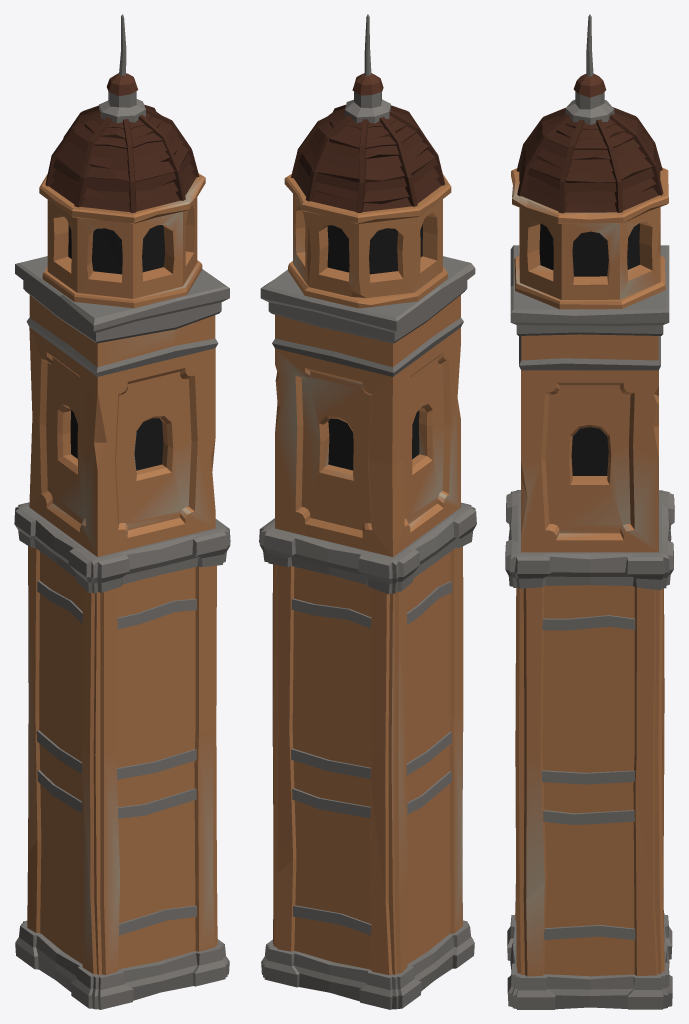
Rendered from SM_Bld_Cuba_Hall_Tower_01.glb.
3 views of the same model, side by side, from view 1: azimuth 30°, elevation 25°; view 2: azimuth 150°, elevation 25°; view 3: azimuth 270°, elevation 25° (orthographic).
Visible parts, largest first — view 1: SM_Bld_Cuba_Hall_Tower_01; view 2: SM_Bld_Cuba_Hall_Tower_01; view 3: SM_Bld_Cuba_Hall_Tower_01.
Part boxes in pixels (x1=…): SM_Bld_Cuba_Hall_Tower_01: x1=14, y1=14, x2=230, y2=1009; SM_Bld_Cuba_Hall_Tower_01: x1=259, y1=14, x2=476, y2=1009; SM_Bld_Cuba_Hall_Tower_01: x1=505, y1=14, x2=674, y2=1009.
Bounding box in the file's own units: 0.0299 × 0.1876 × 0.0299.
